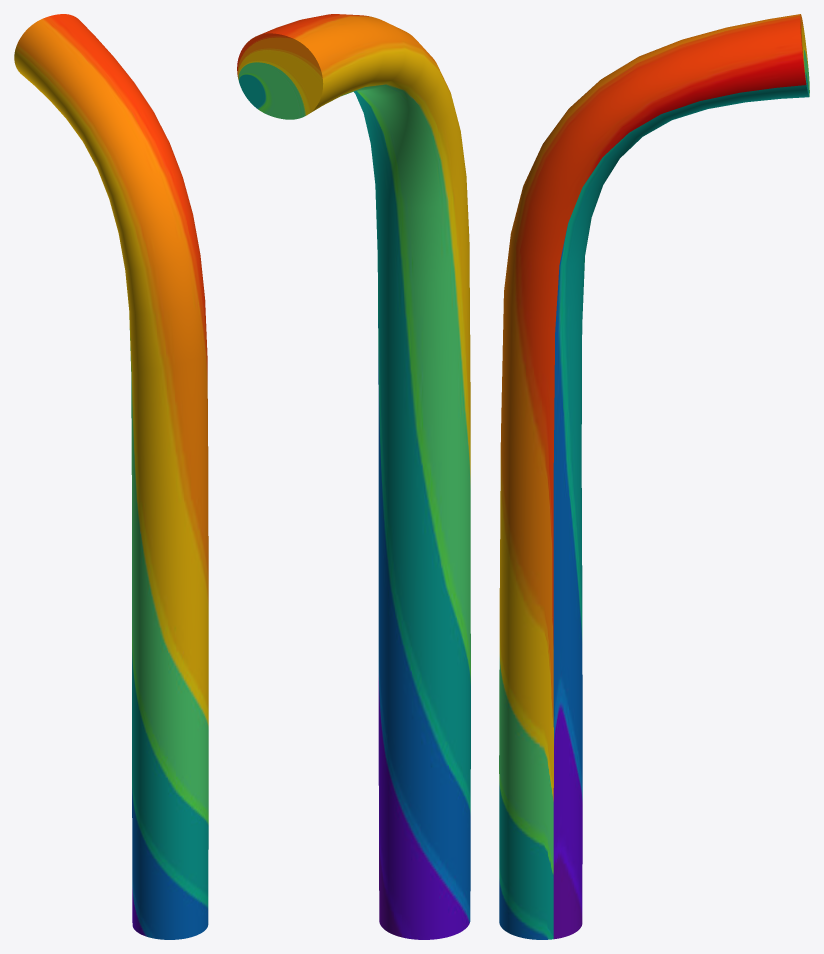
File: rainbowcandy.fbx
3 views of the same model, side by side, from view 1: azimuth 30°, elevation 25°; view 2: azimuth 150°, elevation 25°; view 3: azimuth 270°, elevation 25° (orthographic). The views are drawn at different scales.
Parts seen in each view (by area): view 1: pCylinder1; view 2: pCylinder1; view 3: pCylinder1.
Boxes of the visible parts, x1,y1,x2,y2 form: pCylinder1: (14, 14, 208, 939); pCylinder1: (237, 14, 470, 939); pCylinder1: (499, 14, 809, 939).
Size of the model in its own units: 21.17 by 233 by 72.64.
1 material, 1 textured.
